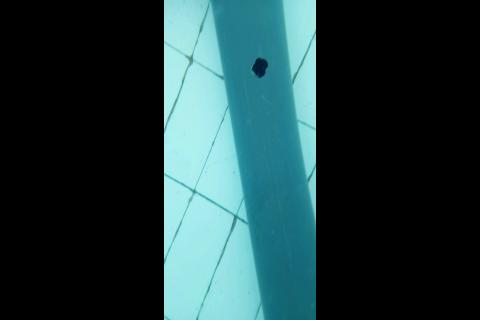kebocoran: (251, 56, 269, 78)
